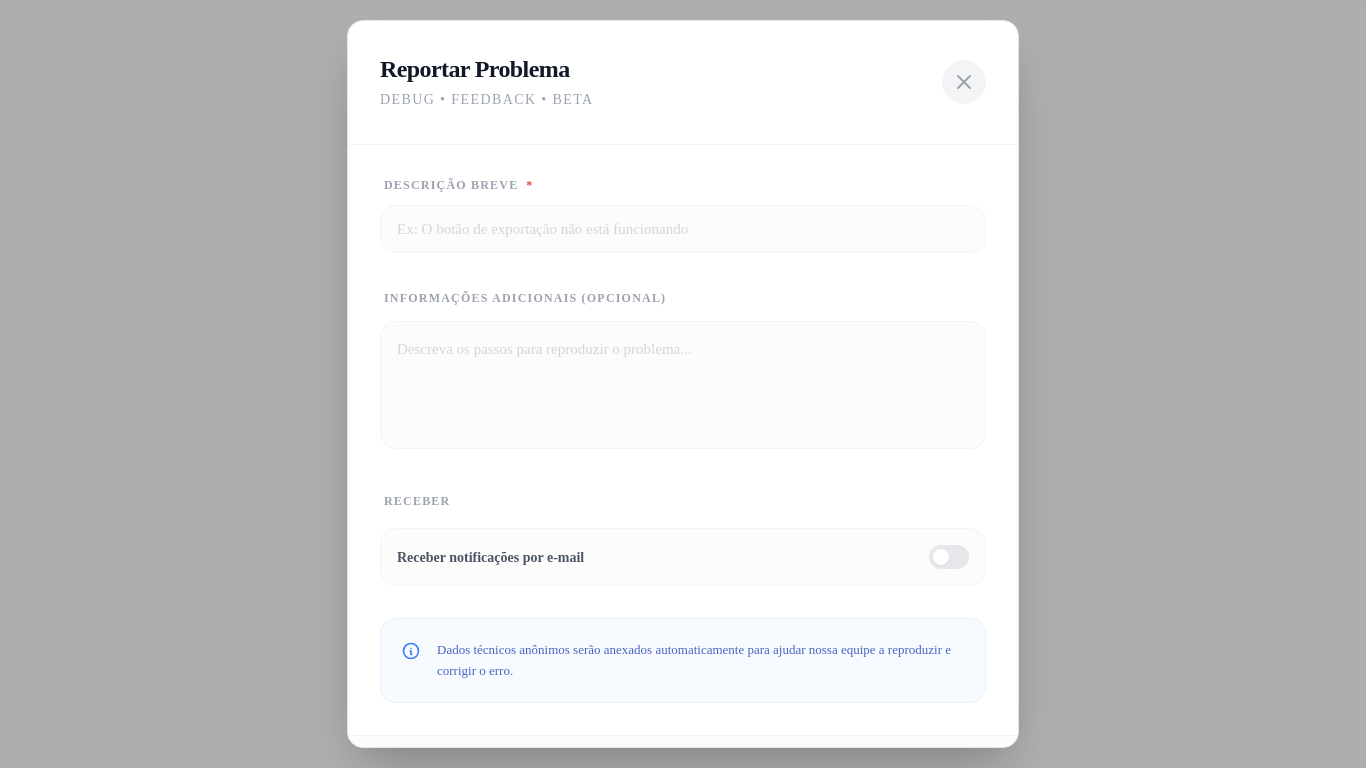
Test case: BugReportDialog › exibe campo de e-mail quando checkbox de notificação é marcado
This screenshot has width=1366, height=768.
Step 1. Click the checkbox → (491, 557), box x1=380 y1=528 x2=986 y2=586
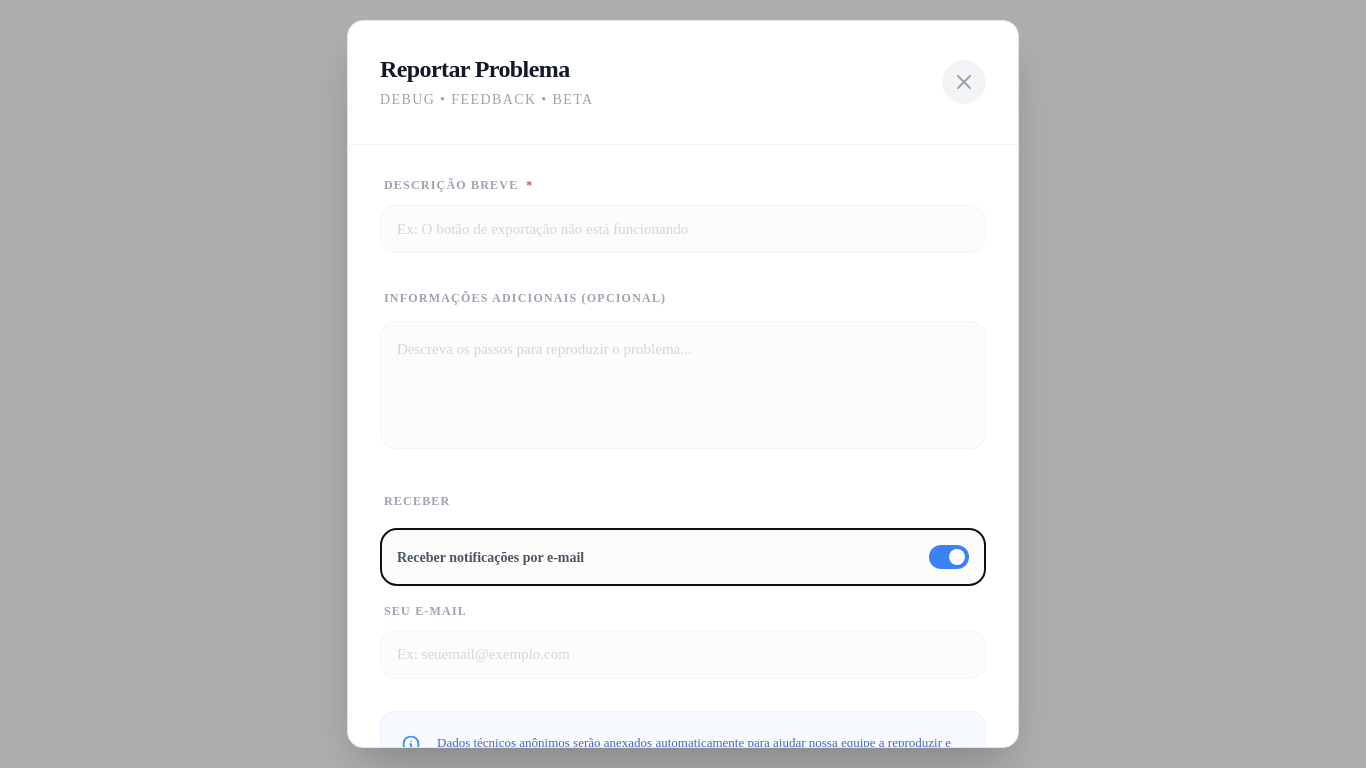
Check: the field labelled "Seu e-mail" is shown, box x1=380 y1=630 x2=986 y2=679
